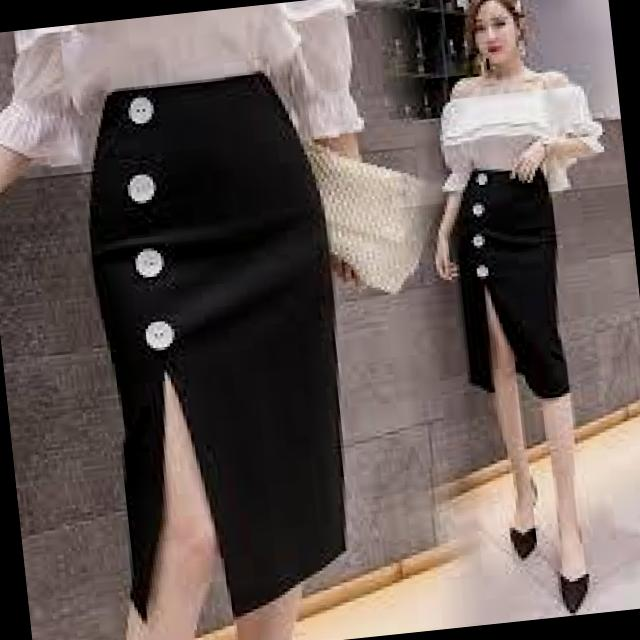skirt: (60, 65, 369, 634), (442, 160, 576, 406)
